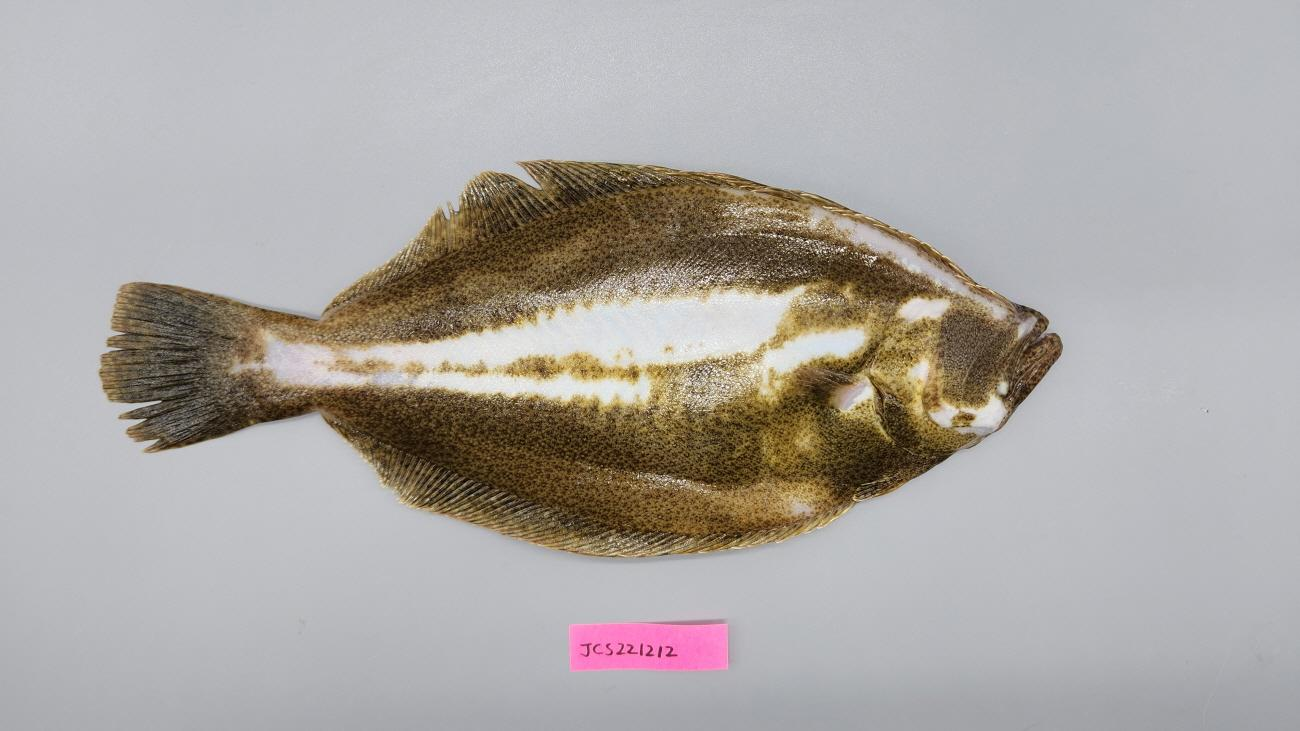POOUN: (98, 157, 1064, 561)
